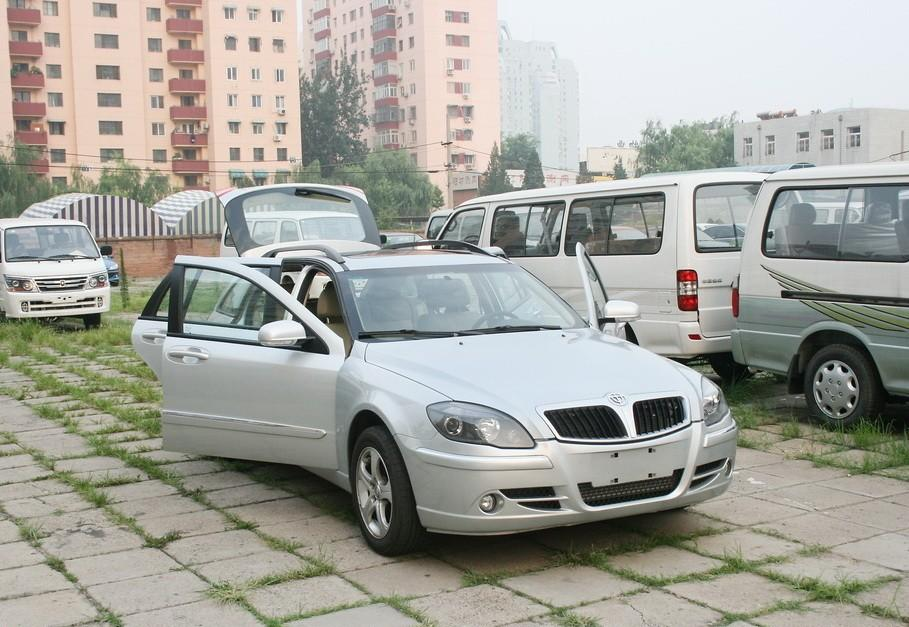Wagon: (129, 182, 739, 558)
